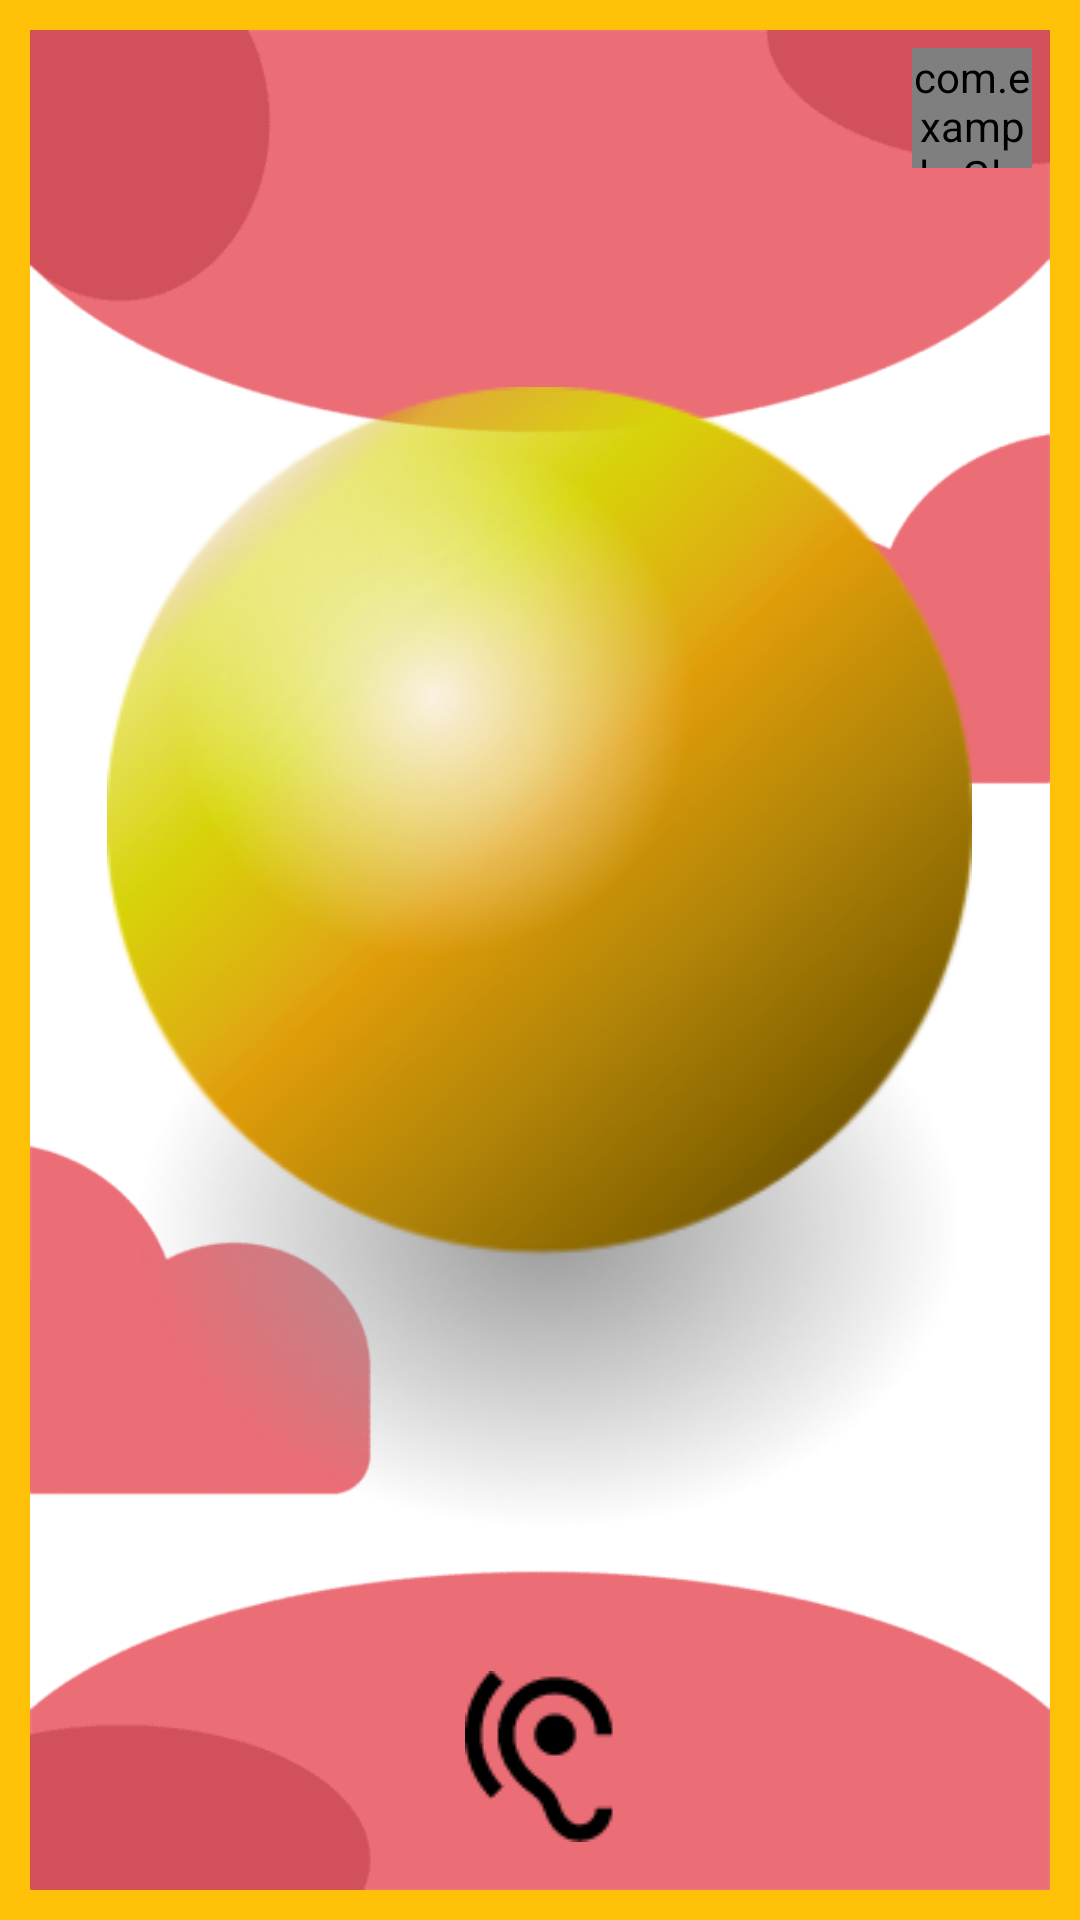

Named icons in this screenshot (1080*1920) and their centers, point (x, y):
pictogram oortje: point (539, 1756)
